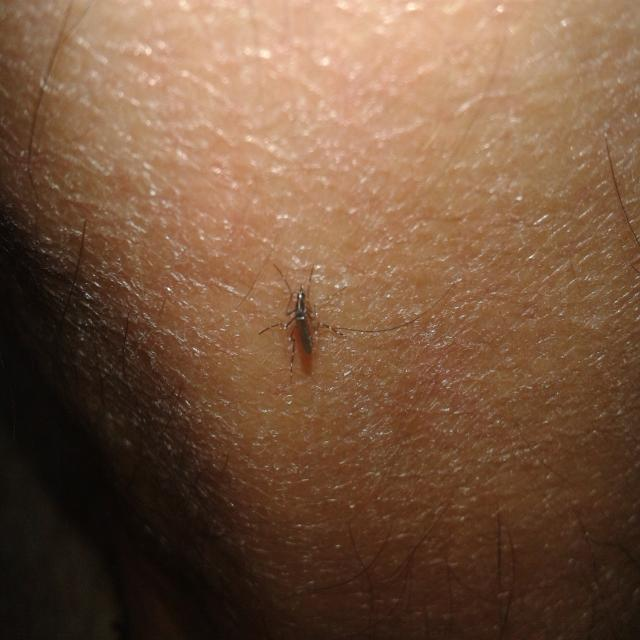albopictus: (231, 236, 445, 392)
